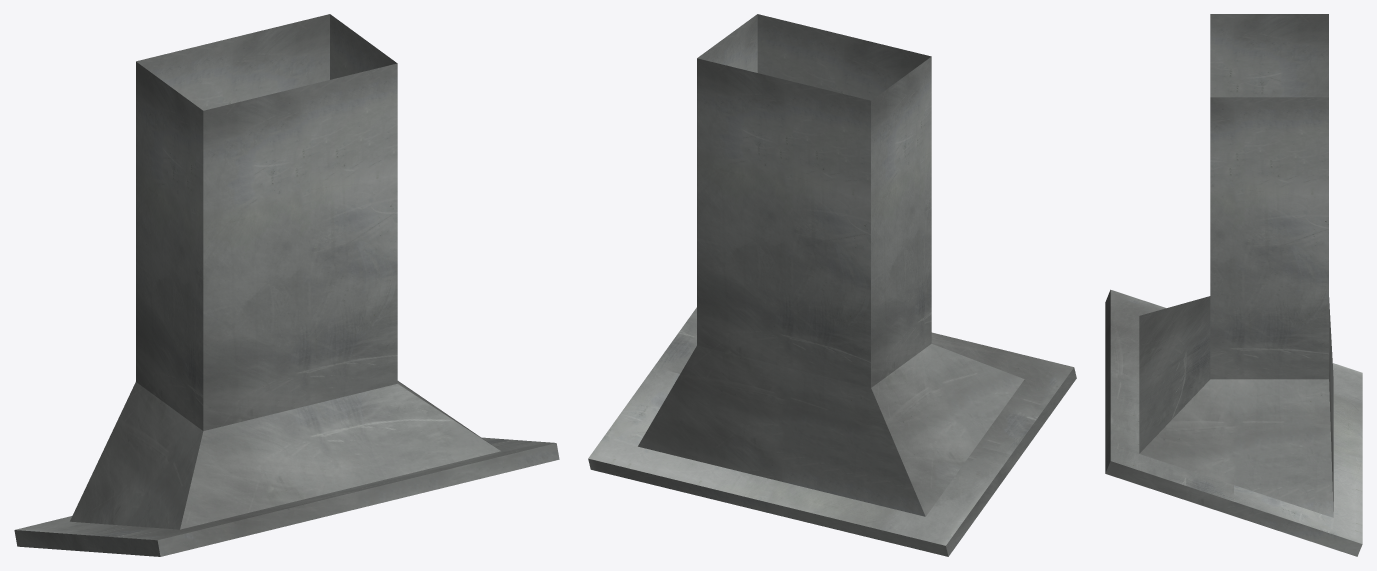
Rendered from kitchen_fume_hood.FBX.
3 views of the same model, side by side, from view 1: azimuth 30°, elevation 25°; view 2: azimuth 150°, elevation 25°; view 3: azimuth 270°, elevation 25° (orthographic). The views are drawn at different scales.
Parts seen in each view (by area): view 1: kitchen_fume_hood; view 2: kitchen_fume_hood; view 3: kitchen_fume_hood.
Part boxes in pixels (x1,y1,x2,y2): kitchen_fume_hood: (14,14,559,556); kitchen_fume_hood: (588,14,1076,556); kitchen_fume_hood: (1105,14,1362,556).
Size of the model in its own units: 107 by 121 by 68.15.
